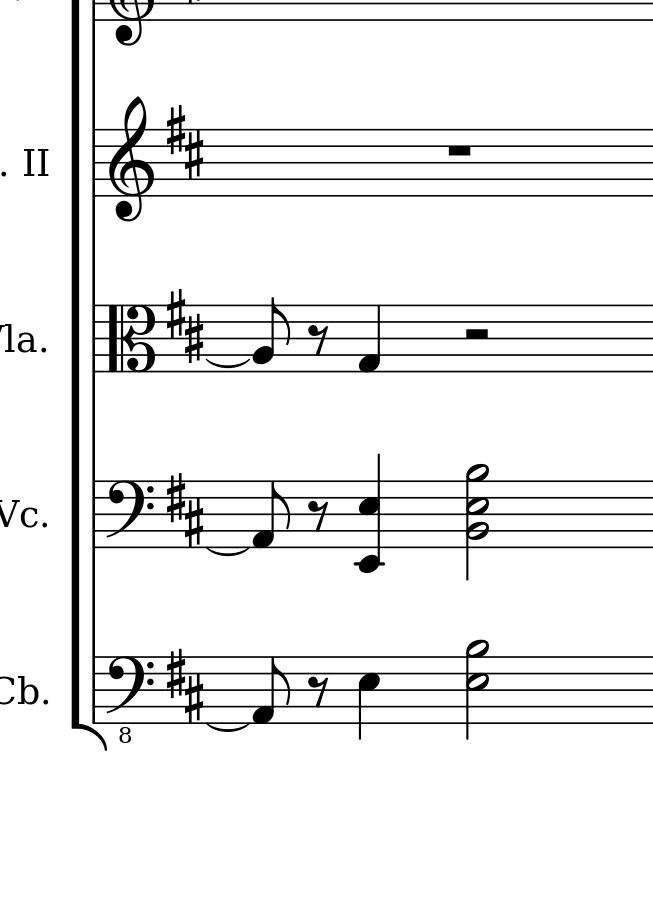2_5_9: (465, 638, 489, 741)
2_th: (461, 461, 491, 579)
4_-2_5: (352, 453, 384, 575)
4_5: (356, 655, 381, 742)
8_1: (250, 655, 292, 726), (252, 481, 292, 549), (355, 302, 382, 375)
8_2: (253, 297, 290, 371)
Cclef: (106, 303, 157, 372)
D_S: (163, 101, 204, 180), (164, 289, 207, 363), (165, 648, 206, 722), (167, 474, 204, 550)
Fclef: (104, 479, 154, 549)
Gclef: (105, 96, 154, 223)
Lower_Fclef: (103, 654, 155, 744)
Rests1: (444, 142, 474, 158)
Rests2: (461, 326, 492, 342)
Rests8: (306, 499, 332, 534), (307, 674, 331, 709), (306, 323, 330, 357)
Single_barline: (86, 482, 102, 549), (86, 306, 102, 370), (86, 657, 101, 722), (88, 131, 102, 196)
Slur: (203, 356, 250, 369), (204, 722, 251, 734), (206, 548, 251, 558)
